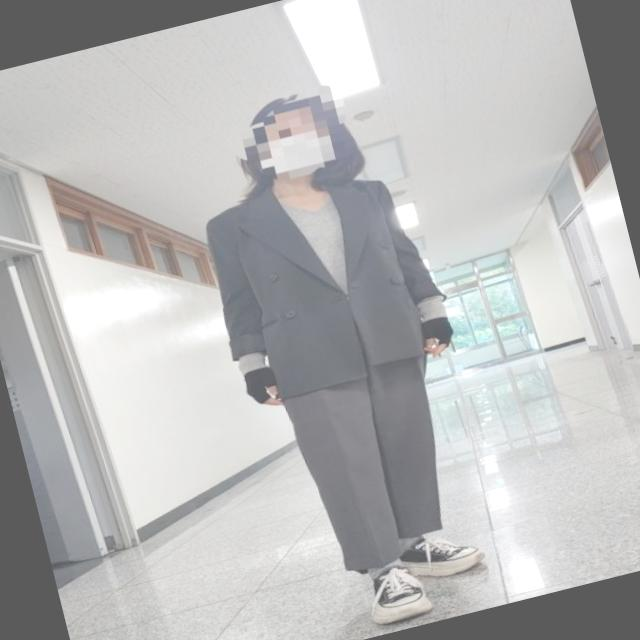blazer: (188, 147, 458, 406)
slacks: (262, 290, 464, 574)
